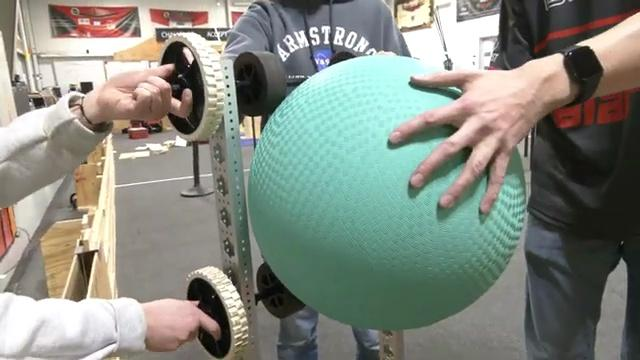ALGAE: (246, 52, 528, 331)
